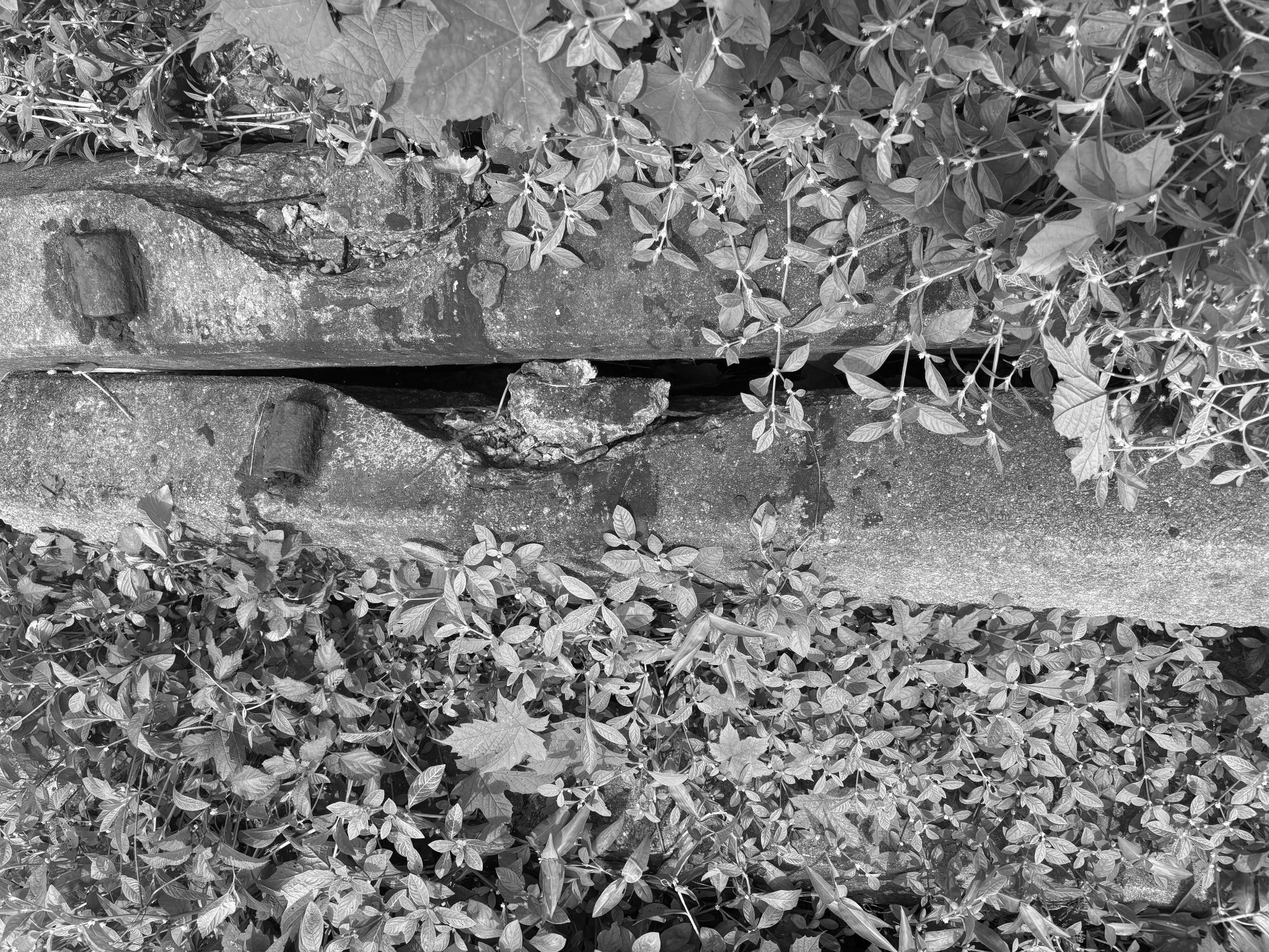cracks under rail seat: (336, 363, 797, 503), (148, 133, 535, 299)
